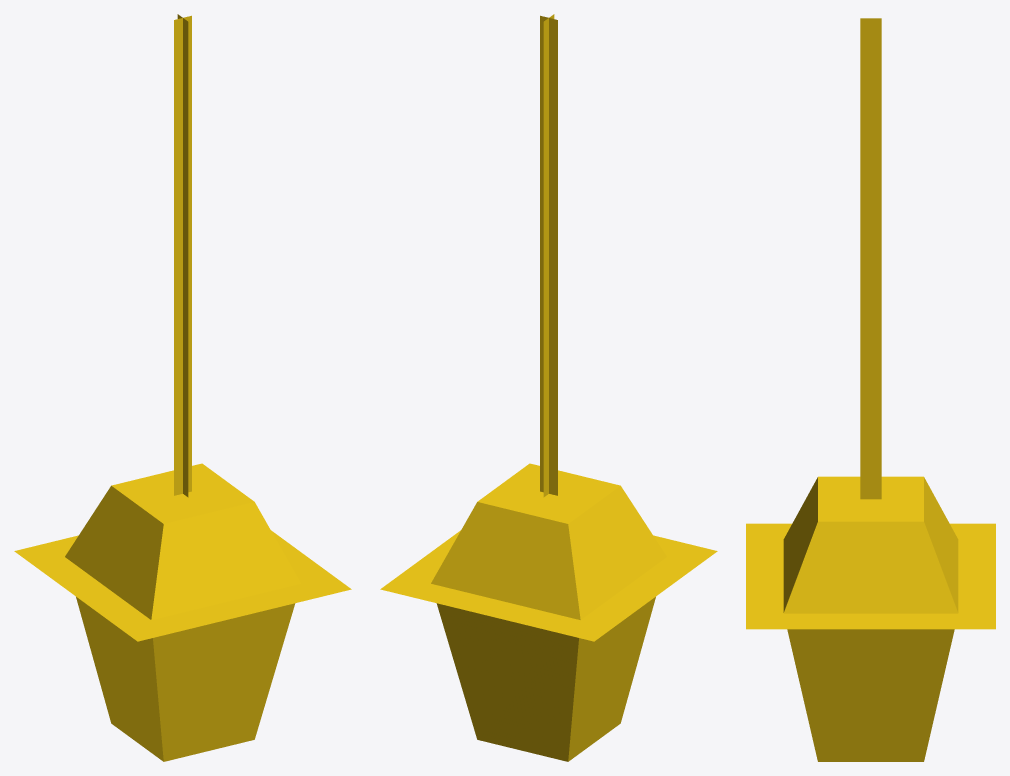
Rendered from lantern.fbx.
The picture shows the model from 3 angles, left to right: view 1: azimuth 30°, elevation 25°; view 2: azimuth 150°, elevation 25°; view 3: azimuth 270°, elevation 25°; orthographic projection.
Visible parts, largest first — view 1: lantern, chainShort; view 2: lantern, chainShort; view 3: lantern, chainShort.
Part boxes in pixels (left/top/right/bottom): lantern: left=14, top=463, right=351, bottom=761; chainShort: left=174, top=14, right=191, bottom=497; lantern: left=380, top=463, right=717, bottom=761; chainShort: left=540, top=14, right=557, bottom=497; lantern: left=746, top=476, right=995, bottom=761; chainShort: left=860, top=18, right=881, bottom=499.
Size of the model in its own units: 47.1 by 150 by 47.1.
